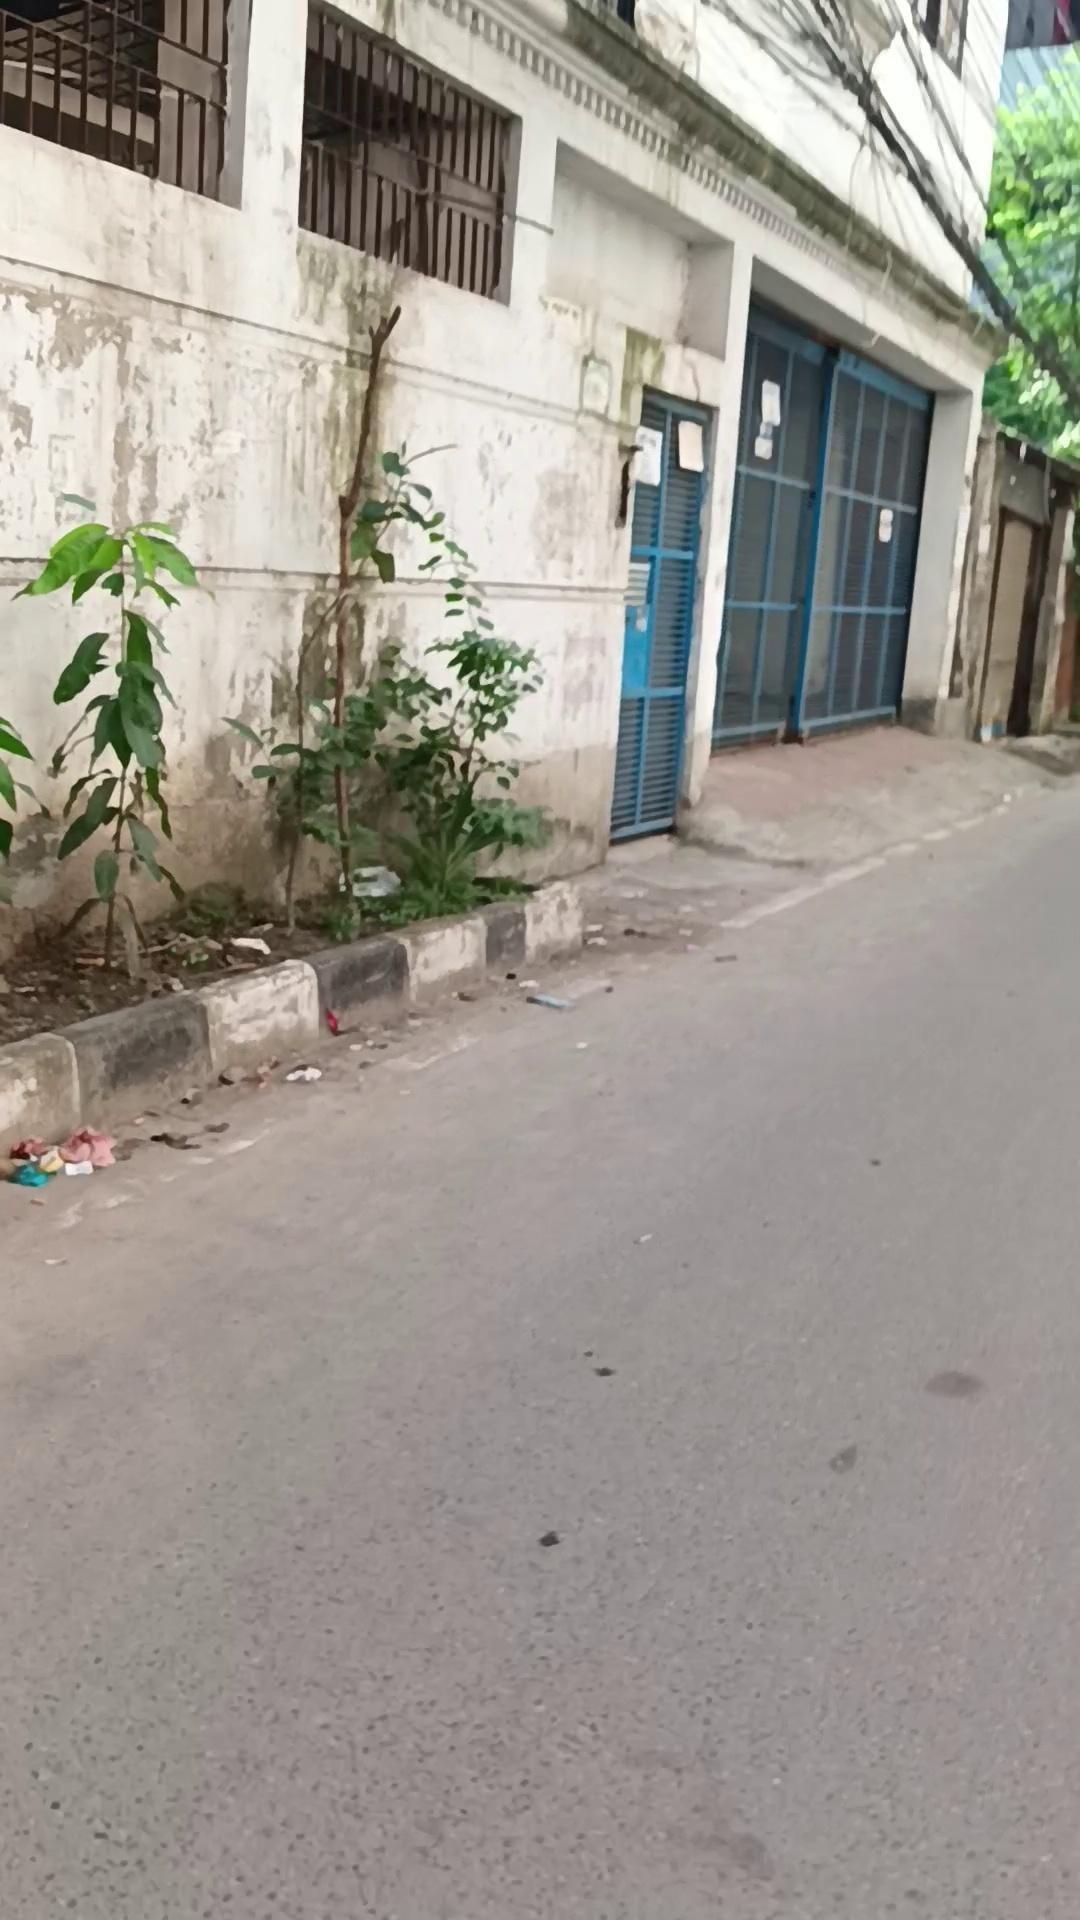Broken-road: (3, 735, 1071, 1167), (3, 874, 584, 1156)
Obstacle: (0, 73, 641, 934)
